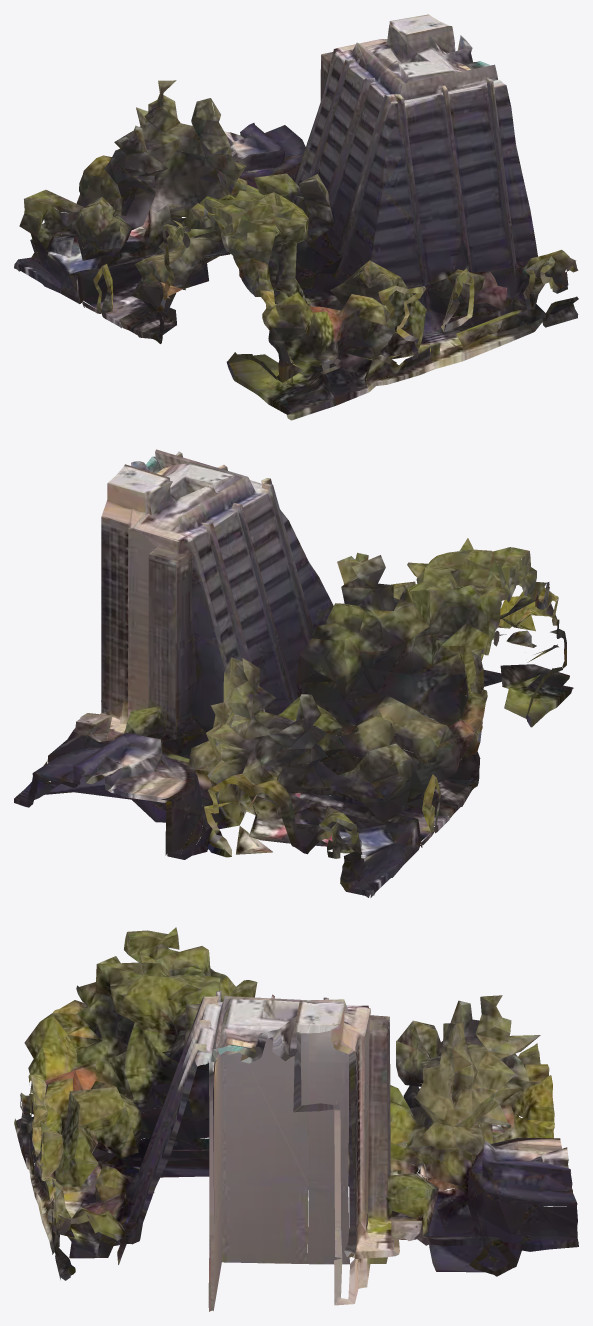
The picture shows the model from 3 angles, top to bottom: view 1: azimuth 30°, elevation 25°; view 2: azimuth 150°, elevation 25°; view 3: azimuth 270°, elevation 25°; orthographic projection. The views are drawn at different scales.
Visible parts, largest first — view 1: Mesh_0; view 2: Mesh_0; view 3: Mesh_0.
Boxes of the visible parts, box(x1,y1,x2,y2) form: Mesh_0: box(14, 14, 578, 420); Mesh_0: box(14, 449, 573, 897); Mesh_0: box(14, 927, 578, 1311).
Bounding box in the file's own units: 66.58 × 45.89 × 82.52.
2 materials, 2 textured.
